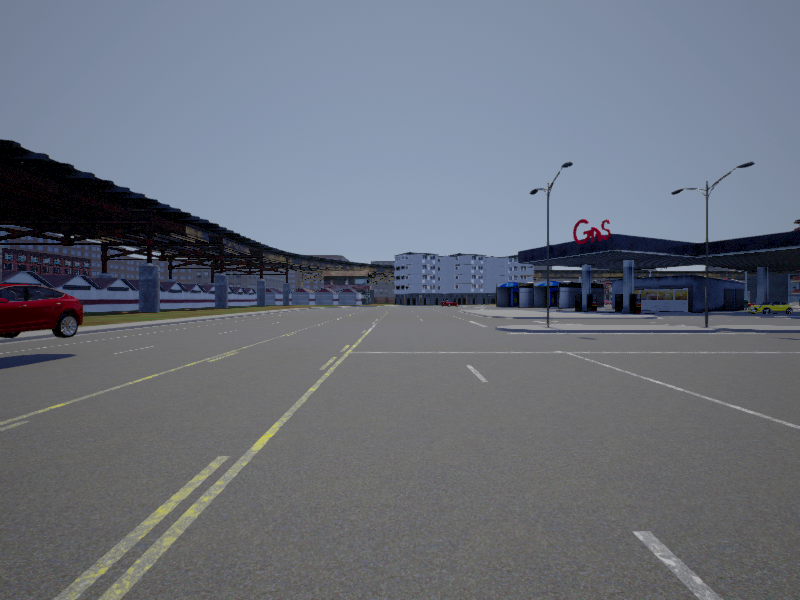Attacker: (1, 284, 82, 338)
